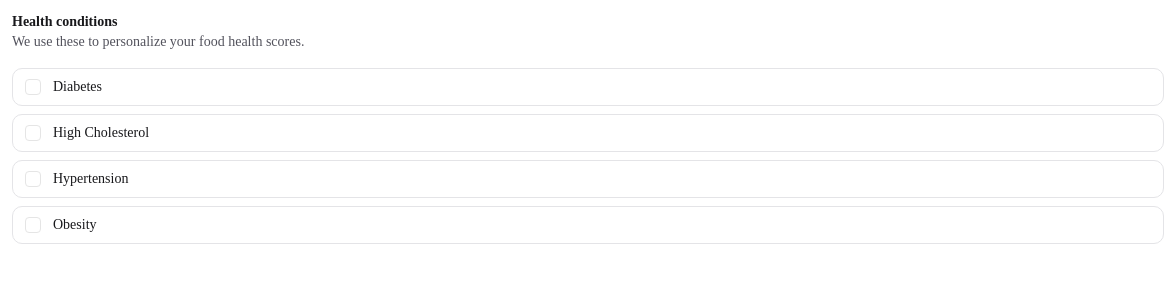
Test: ConditionPicker › shows "Saved" after a successful update
Step 1. Click the checkbox named "hypertension" → {"x": 33, "y": 179}, box [25,171,41,187]
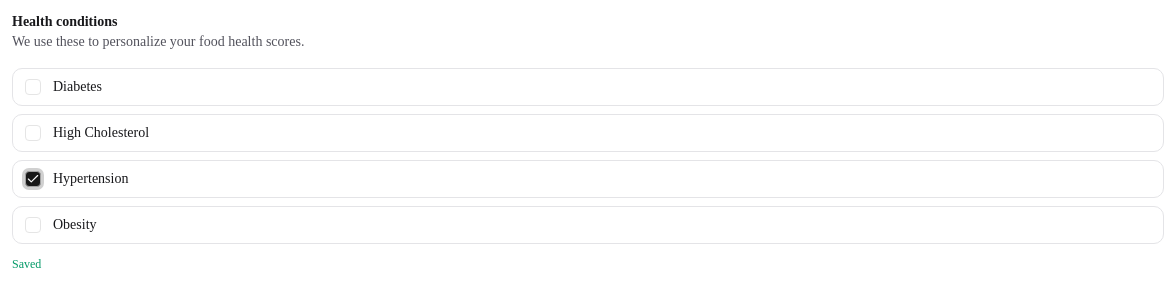
expect the element with test id "condition-picker-status" reads "Saved": met, box [12,257,41,271]
